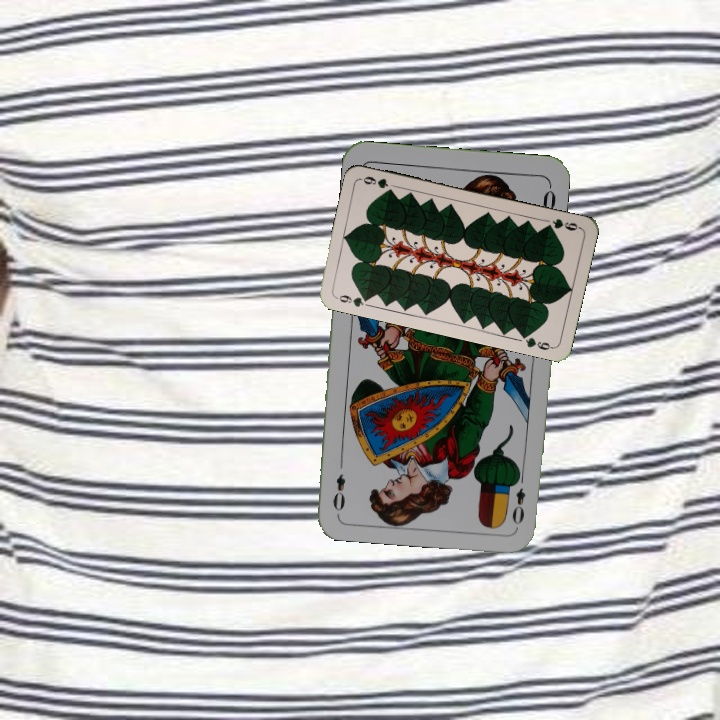EO: (508, 469, 528, 527)
G9: (541, 214, 583, 233), (331, 291, 373, 310)
